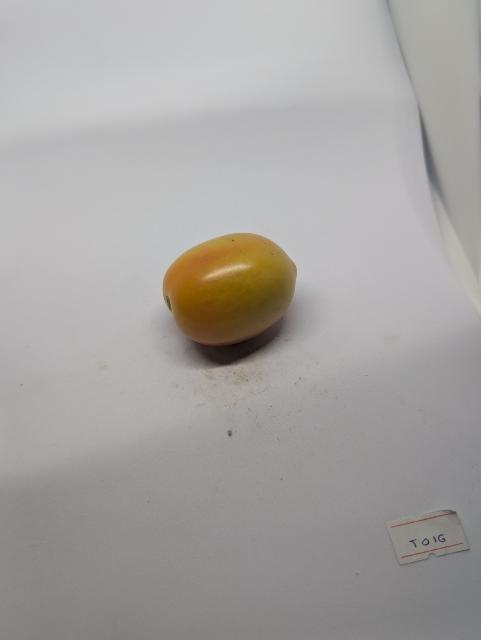turning: (155, 227, 314, 361)
